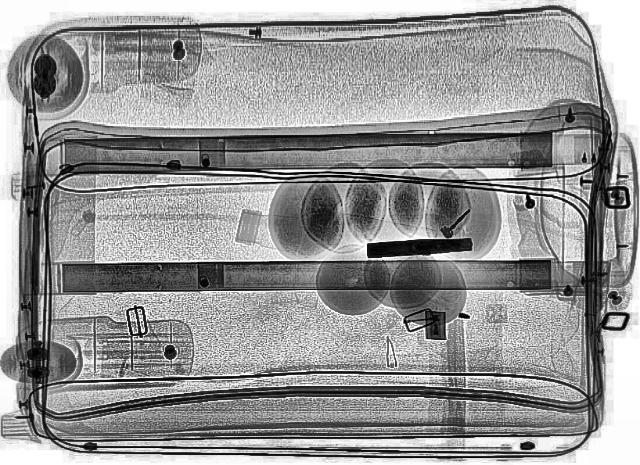Gun: (366, 237, 472, 257)
